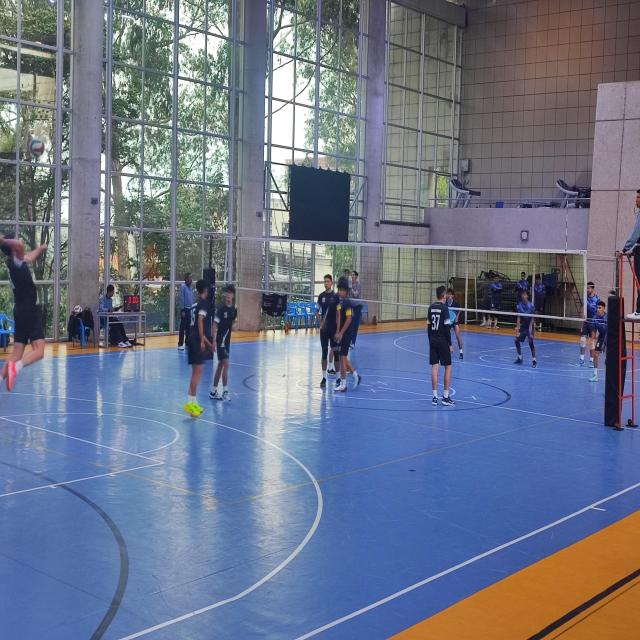volleyball: (29, 137, 44, 157), (74, 305, 82, 315)
